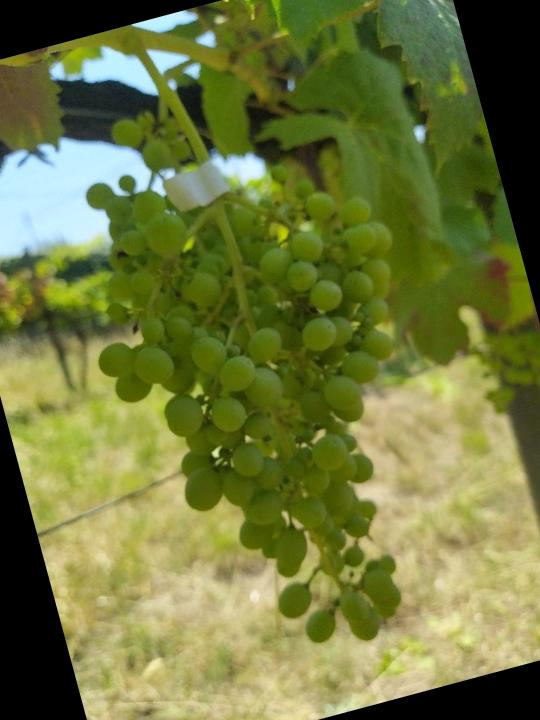grape: (51, 111, 496, 692)
